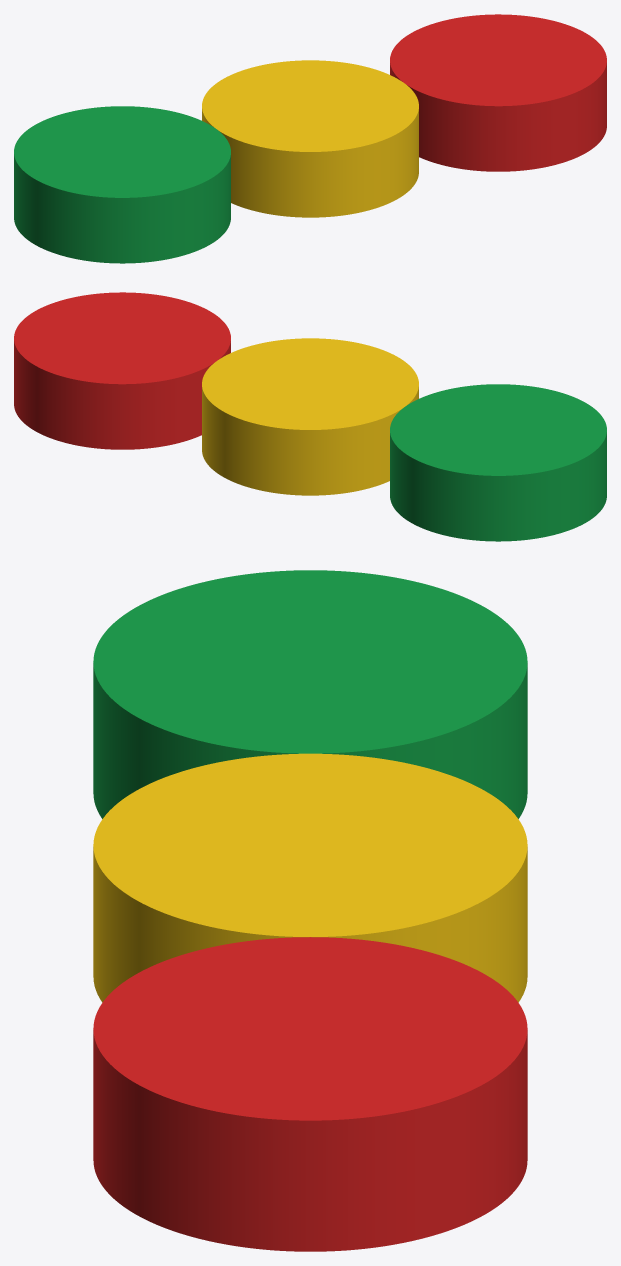
File: rack_lamps.glb
3 views of the same model, one above another, from view 1: azimuth 30°, elevation 25°; view 2: azimuth 150°, elevation 25°; view 3: azimuth 270°, elevation 25° (orthographic). The views are drawn at different scales.
Parts seen in each view (by area): view 1: rack_lamps (×3); view 2: rack_lamps (×3); view 3: rack_lamps (×3).
Boxes of the visible parts, bbox=[...] form: rack_lamps (×3): bbox=[14, 14, 606, 263]; rack_lamps (×3): bbox=[14, 292, 606, 541]; rack_lamps (×3): bbox=[93, 570, 527, 1251].
Bounding box in the file's own units: 0.09 × 0.01 × 0.03.
